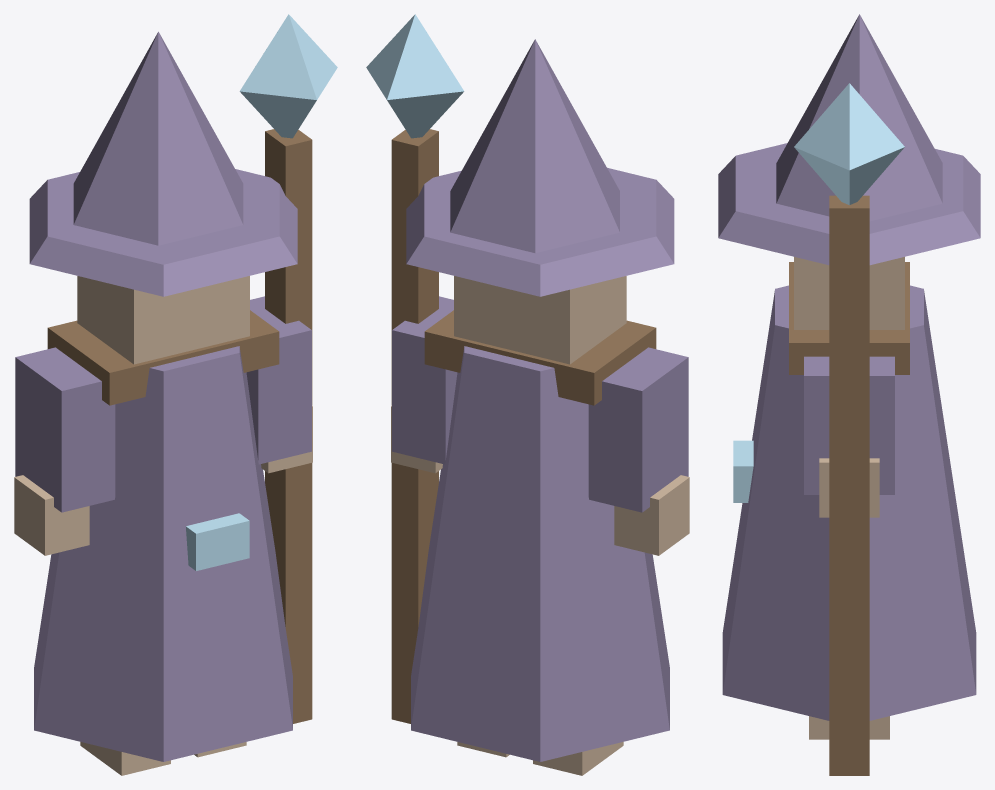
Rendered from unit-mage.glb.
The picture shows the model from 3 angles, left to right: view 1: azimuth 30°, elevation 25°; view 2: azimuth 150°, elevation 25°; view 3: azimuth 270°, elevation 25°; orthographic projection. The views are drawn at different scales.
Parts seen in each view (by area): view 1: unit-mage; view 2: unit-mage; view 3: unit-mage.
Boxes of the visible parts, <box> form: unit-mage: <box>14,14,337,775</box>; unit-mage: <box>366,14,689,775</box>; unit-mage: <box>718,14,980,775</box>.
Size of the model in its own units: 0.345 by 0.76 by 0.2598.
